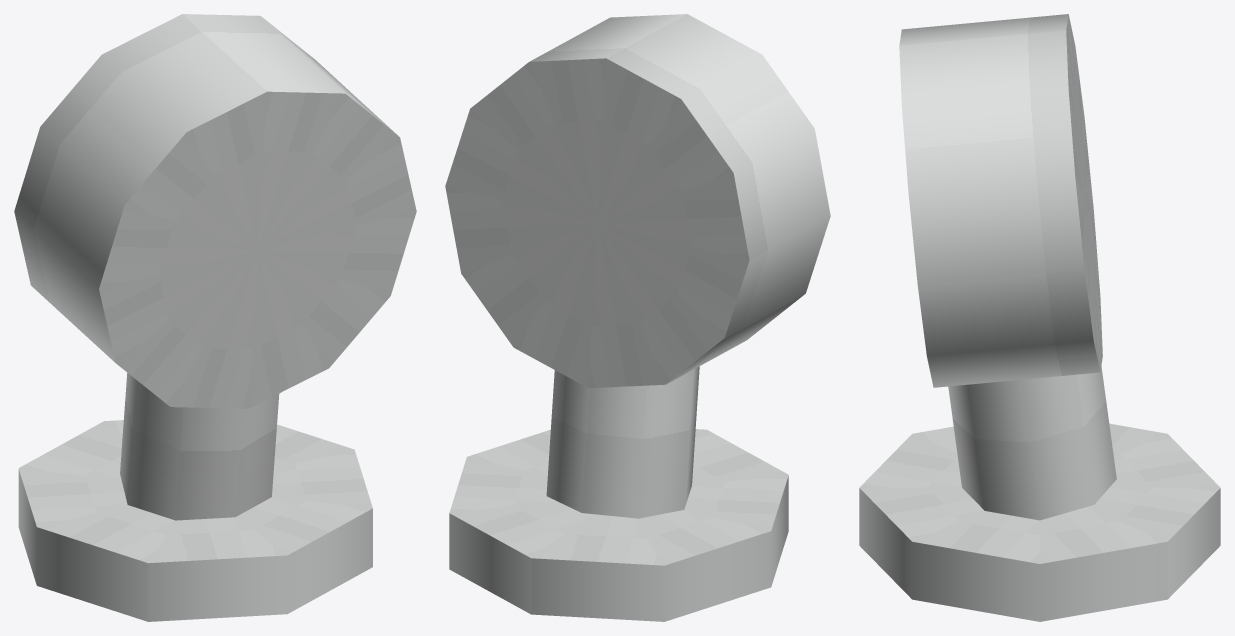
File: trusssignalarm_stub_37.obj
The picture shows the model from 3 angles, left to right: view 1: azimuth 30°, elevation 25°; view 2: azimuth 150°, elevation 25°; view 3: azimuth 270°, elevation 25°; orthographic projection. The views are drawn at different scales.
Visible parts, largest first — view 1: trusssignalarm_stub_37; view 2: trusssignalarm_stub_37; view 3: trusssignalarm_stub_37.
Part boxes in pixels (left/top/right/bottom): trusssignalarm_stub_37: left=14, top=14, right=416, bottom=621; trusssignalarm_stub_37: left=445, top=14, right=830, bottom=621; trusssignalarm_stub_37: left=859, top=14, right=1220, bottom=621.
Size of the model in its own units: 0.35 by 0.5508 by 0.35.
